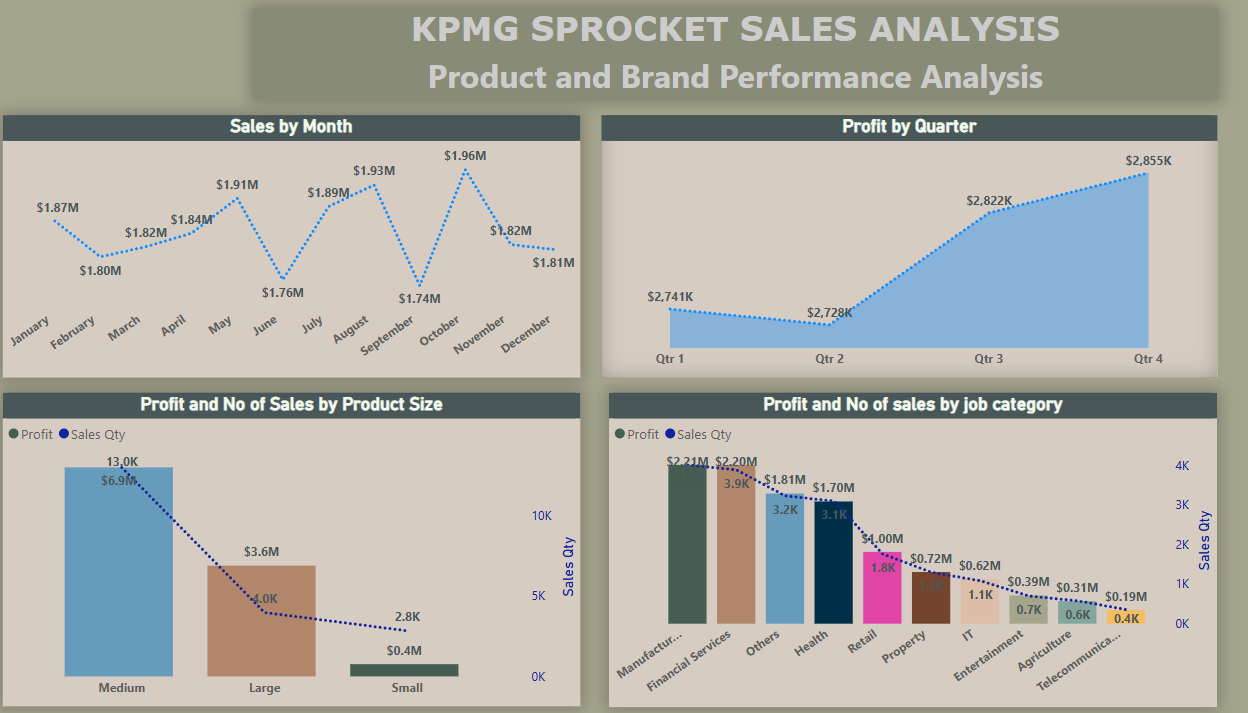

The dashboard page shown, as its layout file describes it:
{"tool":"powerbi","page":{"name":"Page 2","canvas":[1280,720],"ordinal":1},"visuals":[{"type":"lineClusteredColumnComboChart","title":"Profit and No of Sales by Product Size","fields":{"Category":["Transactions.Product_Size"],"Y":["Transactions.Total Profit"],"Y2":["Transactions.Sales Qty"]},"box":[13.8,394,577.8,313.6],"z":0},{"type":"lineClusteredColumnComboChart","title":"Profit and No of sales by job category","fields":{"Y":["Transactions.Total Profit"],"Category":["Customers Demographic.job_industry_category"],"Y2":["Transactions.Sales Qty"]},"box":[620.4,393.6,607.9,314.2],"z":1000},{"type":"stackedAreaChart","fields":{"Y":["Transactions.Total Profit"],"Category":["Transactions.transaction_date.Variation.Date Hierarchy.Quarter"]},"box":[612.5,115.7,615.9,262],"z":2000},{"type":"lineChart","title":"Sales by Month","fields":{"Y":["Transactions.Total Sales"],"Category":["Transactions.transaction_date.Variation.Date Hierarchy.Month"]},"box":[13.6,115.7,577.3,262],"z":3000},{"type":"textbox","title":"KPMG SPROCKET SALES ANALYSIS","box":[263.1,9.1,965.2,91.9],"z":4000}]}

Visuals, with their boxes in screenshot pixels (x1, y1, x2, y2), scaled from the page's 1280x720 canvas onto the 1248x713 screenshot:
"Profit and No of Sales by Product Size" lineClusteredColumnComboChart: locate(13, 390, 577, 701)
"Profit and No of sales by job category" lineClusteredColumnComboChart: locate(605, 390, 1198, 701)
stackedAreaChart - Transactions.Total Profit x Transactions.transaction_date.Variation.Date Hierarchy.Quarter: locate(597, 115, 1198, 374)
"Sales by Month" lineChart: locate(13, 115, 576, 374)
"KPMG SPROCKET SALES ANALYSIS" textbox: locate(257, 9, 1198, 100)
